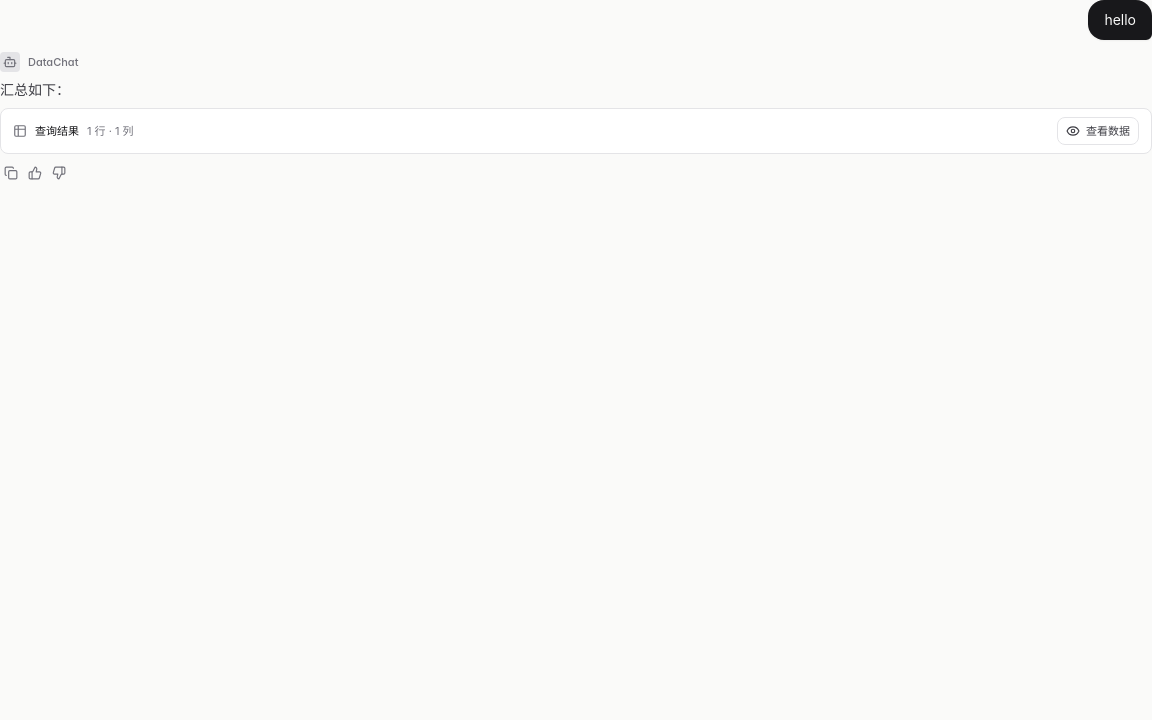
Test: MessageItem › renders report-style artifact placeholders as inline result tables
This screenshot has width=1152, height=720.
Check: the text "total" is not shown
What coordinates should you click on to do the following:
click the button "查看数据"
I would click on:
 (1098, 131)
Its box is [1057,117,1139,145].
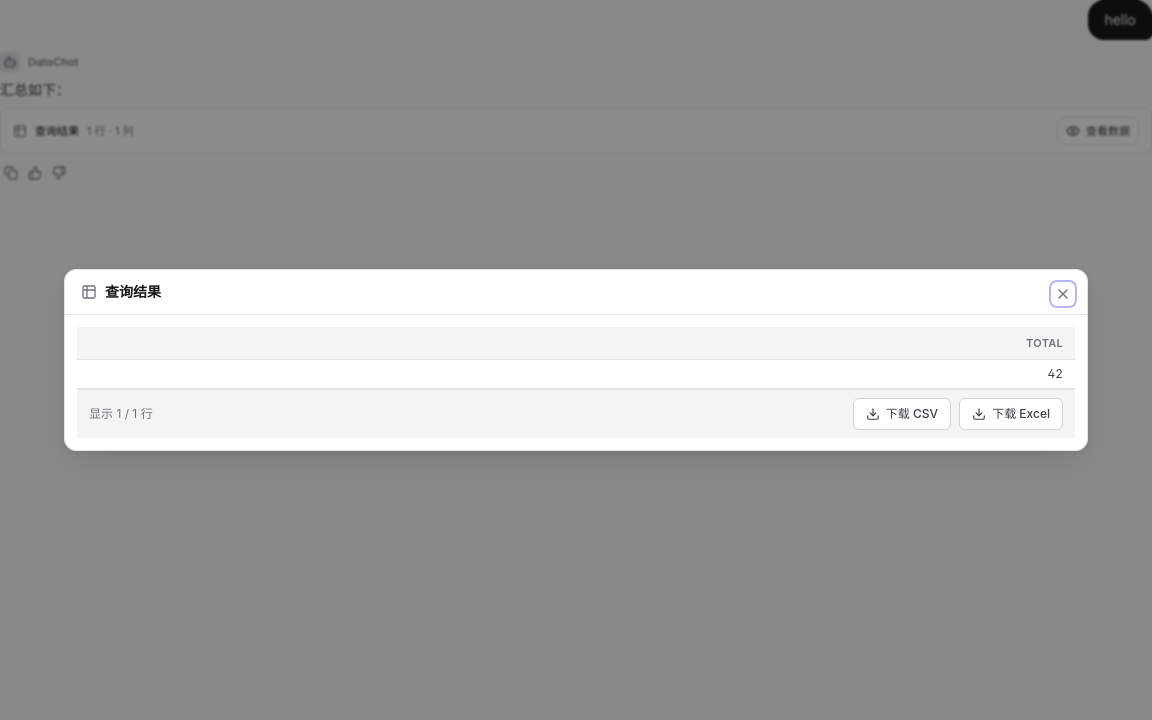
Check: the dialog is shown, box [64,269,1088,451]
Check: the column heading "total" is shown, box [77,327,1075,360]
Check: the text "42" is shown, box [77,360,1075,388]
